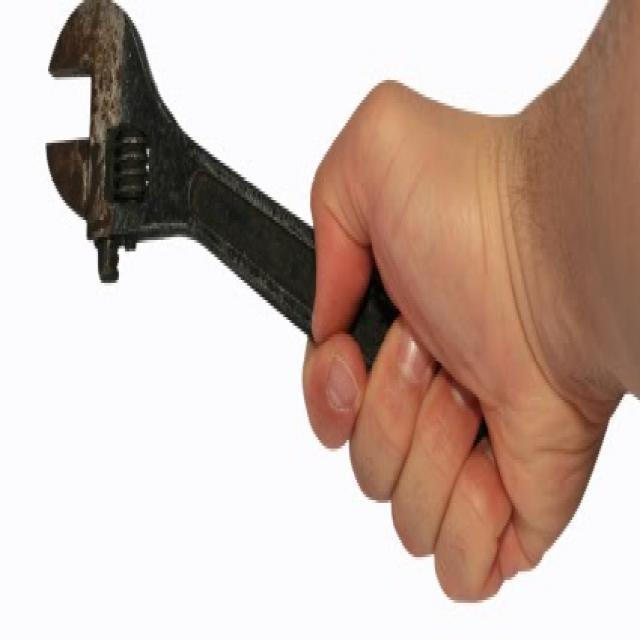wrench: (44, 1, 396, 370)
